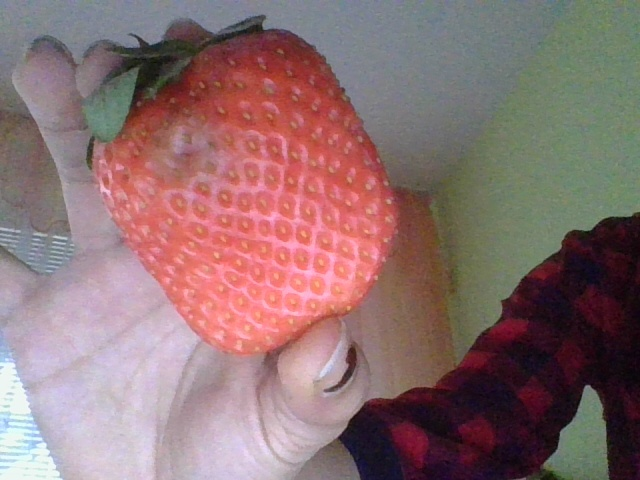ripe: (91, 32, 396, 357)
